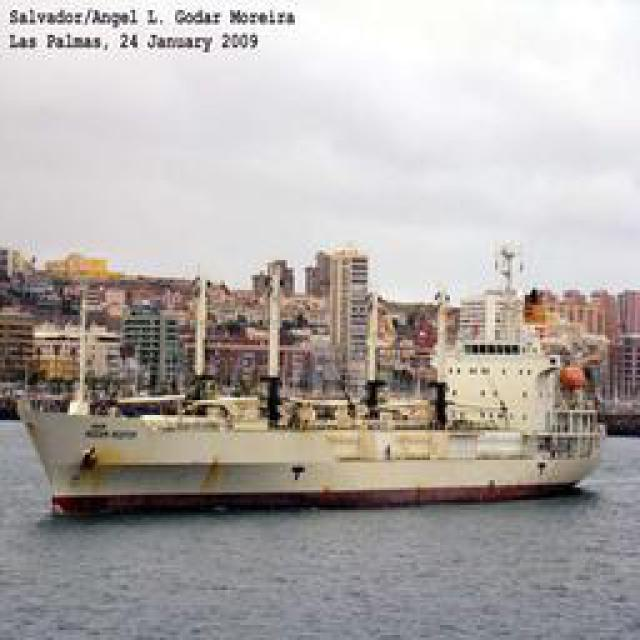Ship: (23, 291, 601, 516)
